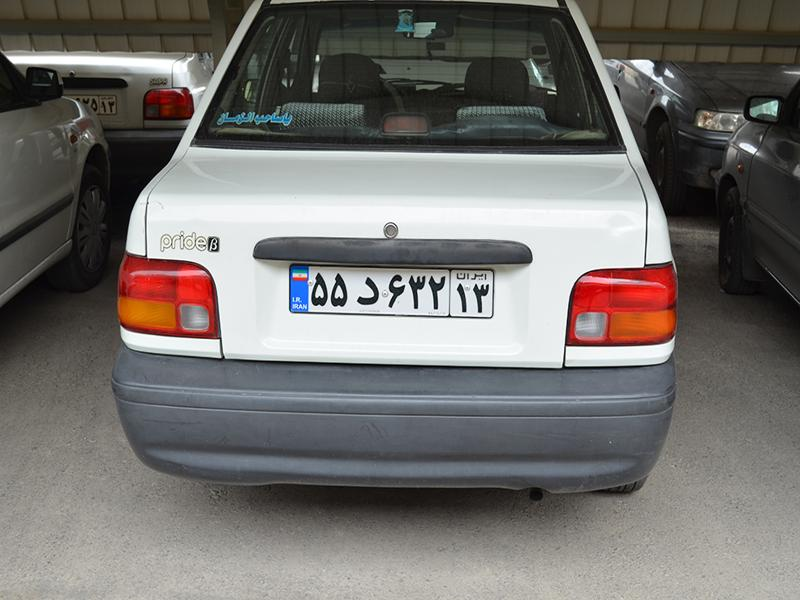Plate: (284, 262, 499, 328)
